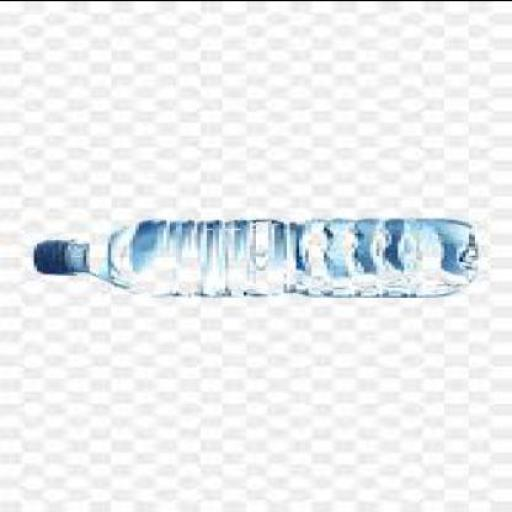plastic: (31, 217, 475, 294), (31, 234, 71, 272)
